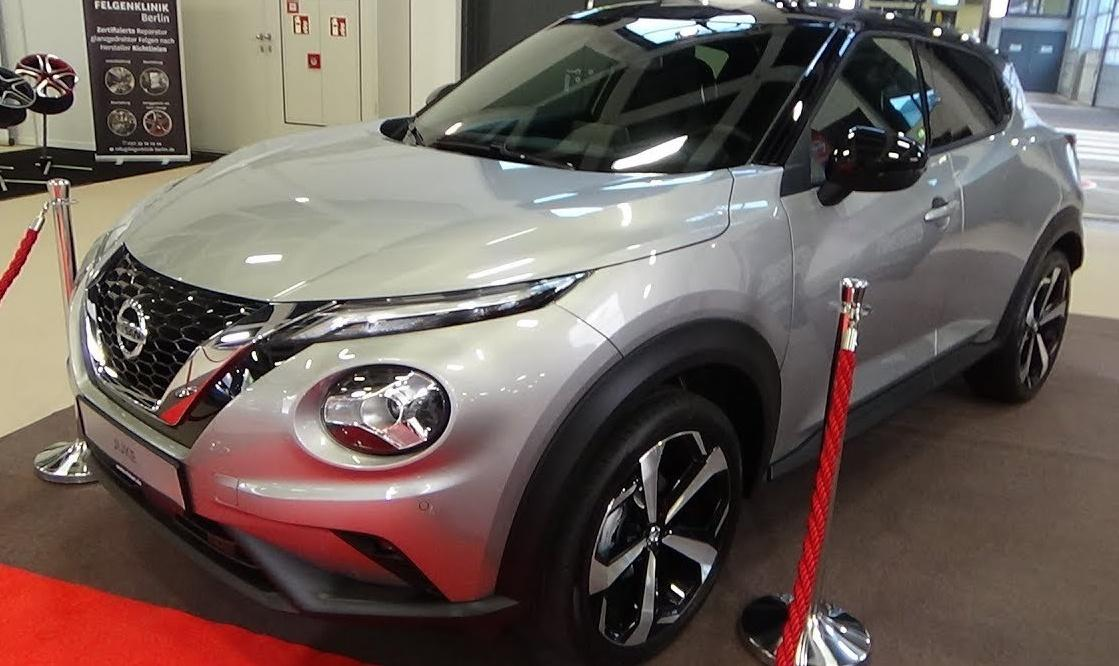Crossovers: (71, 3, 1085, 663)
